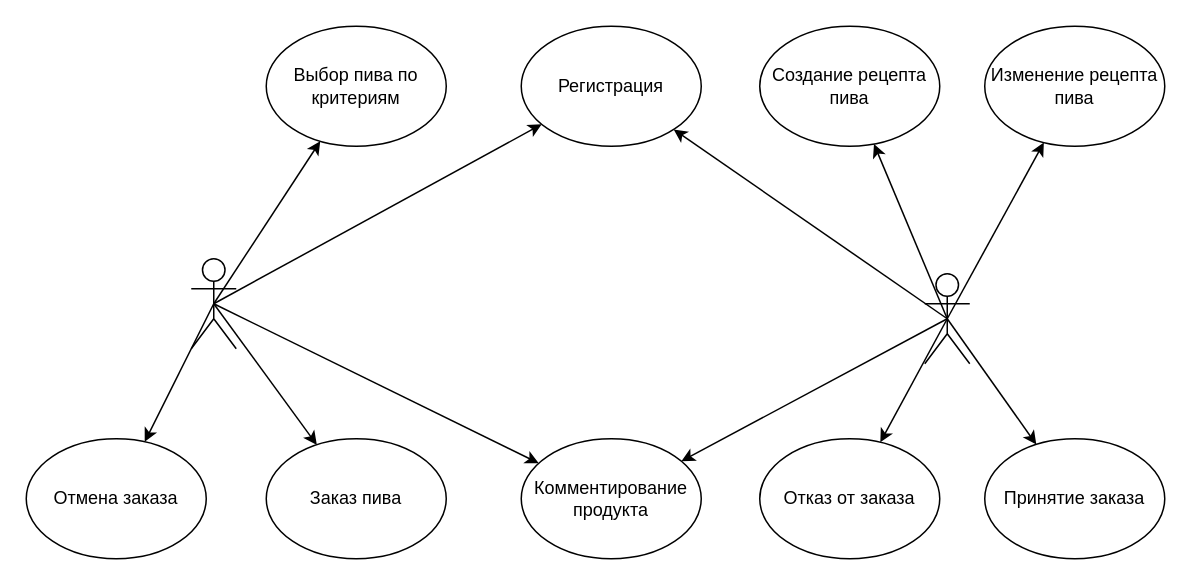
This 1191x585 diagram has some shape labels left out. The box of each missing label's shape, as (x1, y1, x2, y2) in pixels:
Пользователь: (190, 257, 236, 349)
Производитель: (923, 272, 970, 364)
